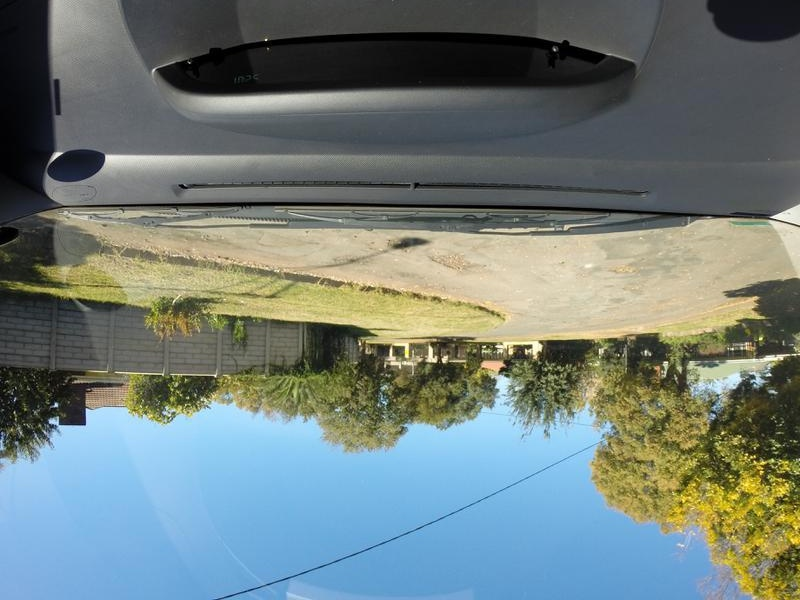pothole: (422, 247, 478, 285), (332, 249, 387, 268), (605, 259, 646, 279)
